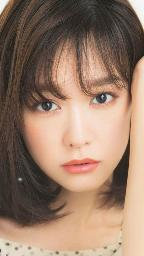face: (24, 64, 132, 190)
